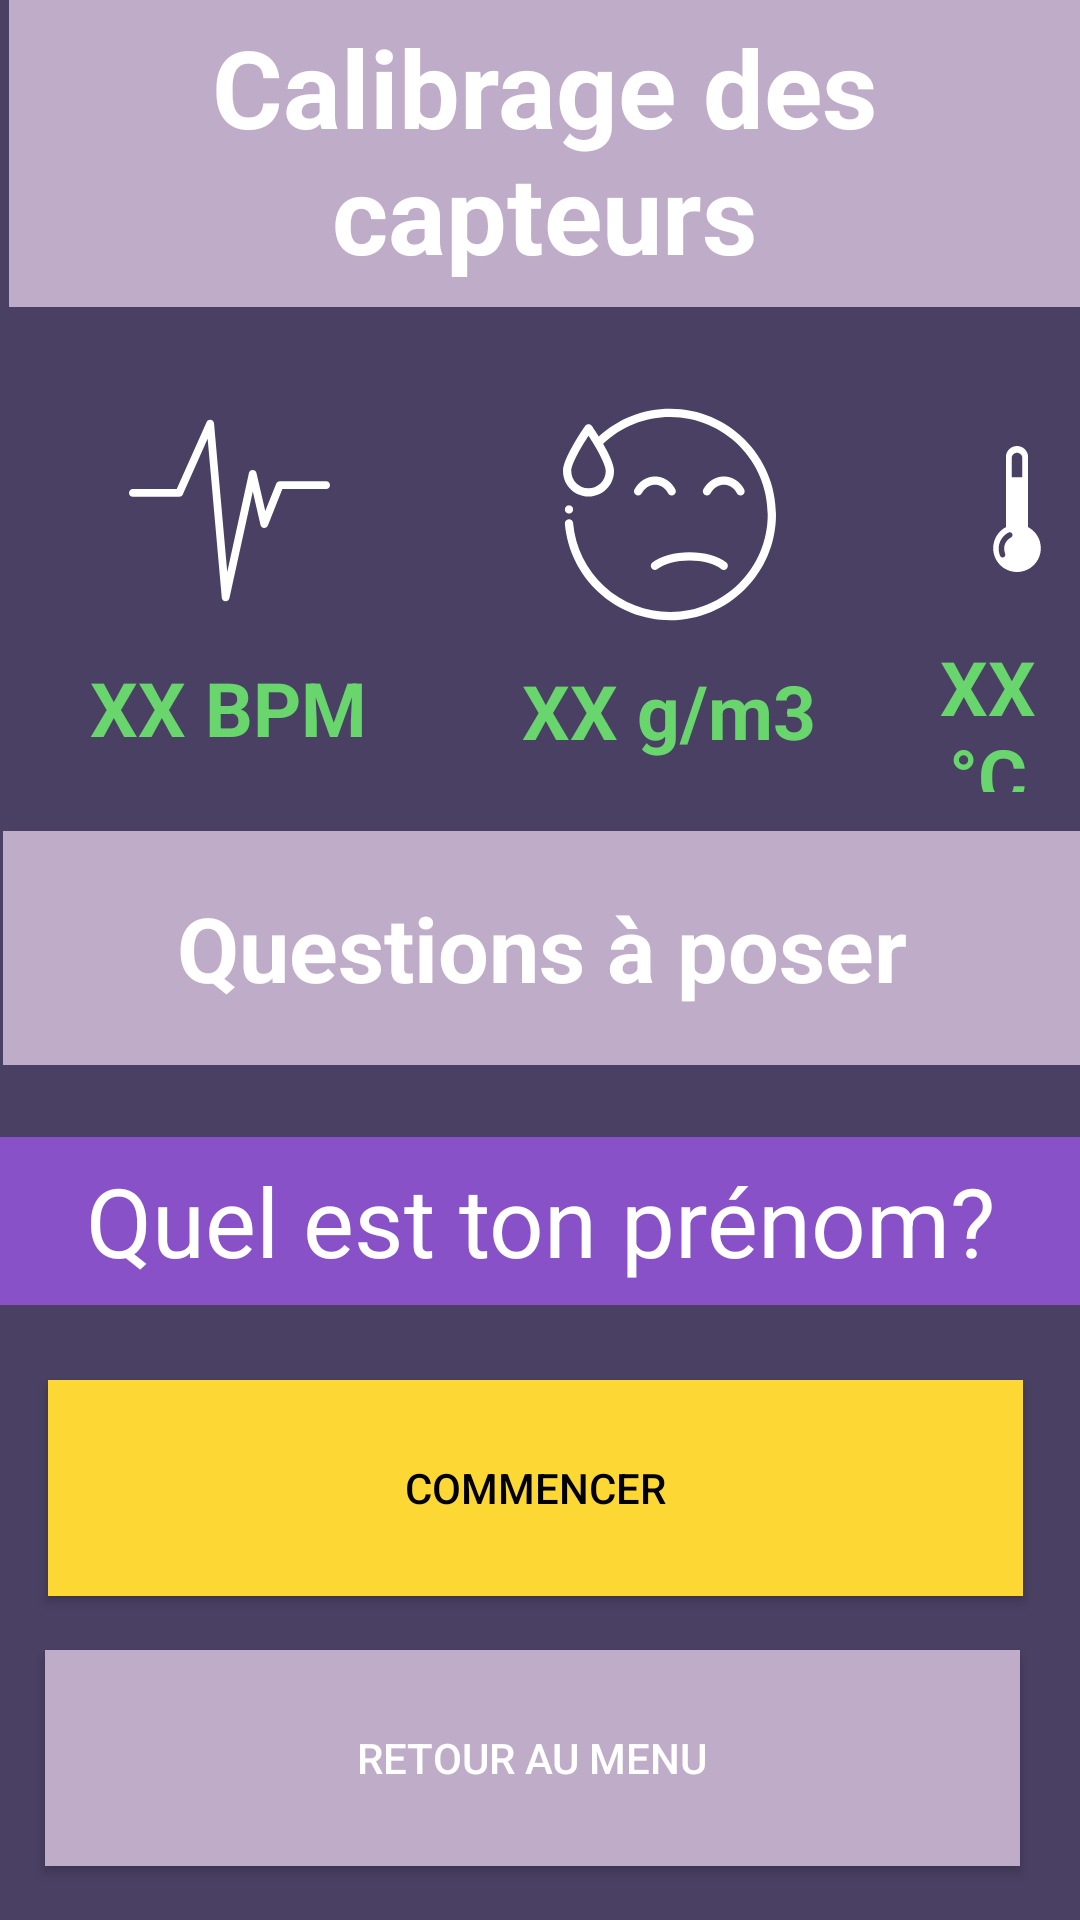

Screen size 1080x1920. Icon name, then its center in pixels as [x,y]:
heartbeat: [229,510]
temperature: [1017,509]
